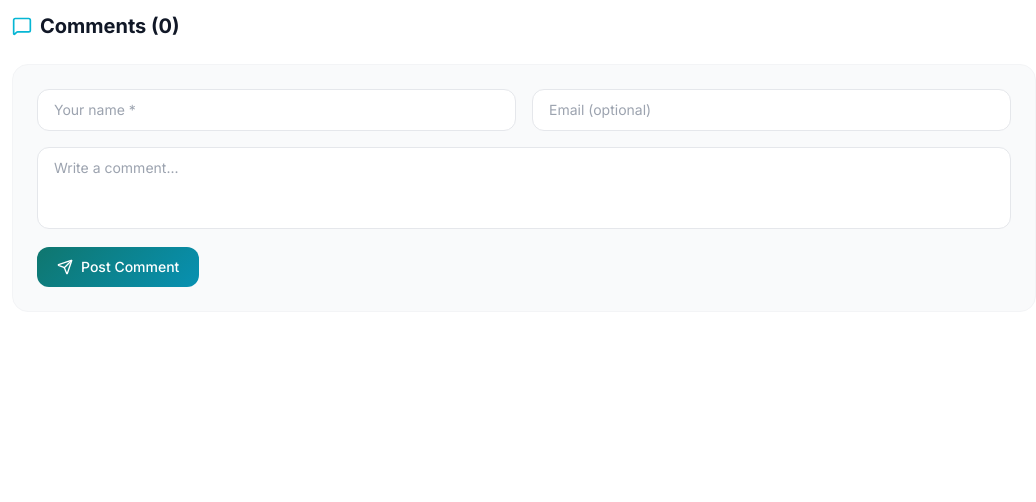
Comments component › disables submit while submitting and shows error on failure
Type "Alice" into the field with placeholder "Your name *" at (276, 110), box [37,89,516,131]
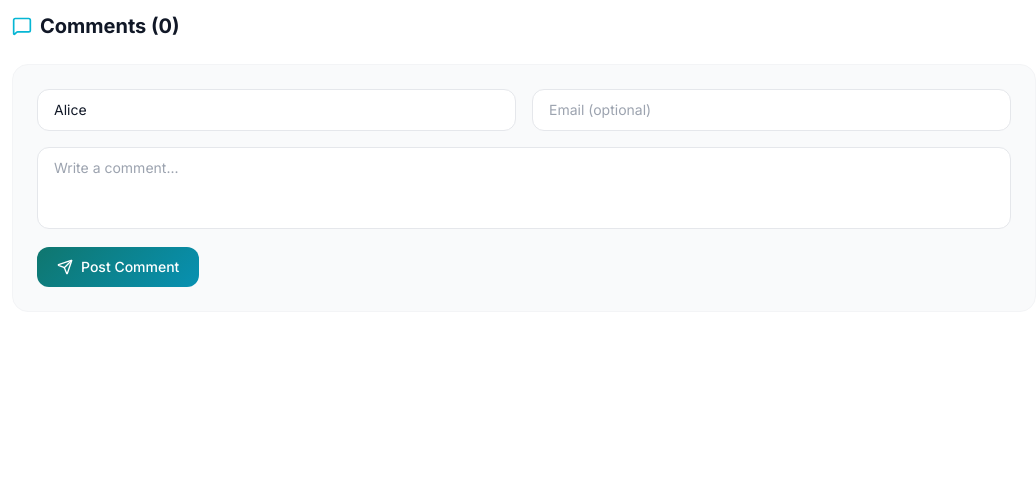
Type "Hello" into the text box with placeholder "Write a comment..." at (524, 188), box [37,147,1011,229]
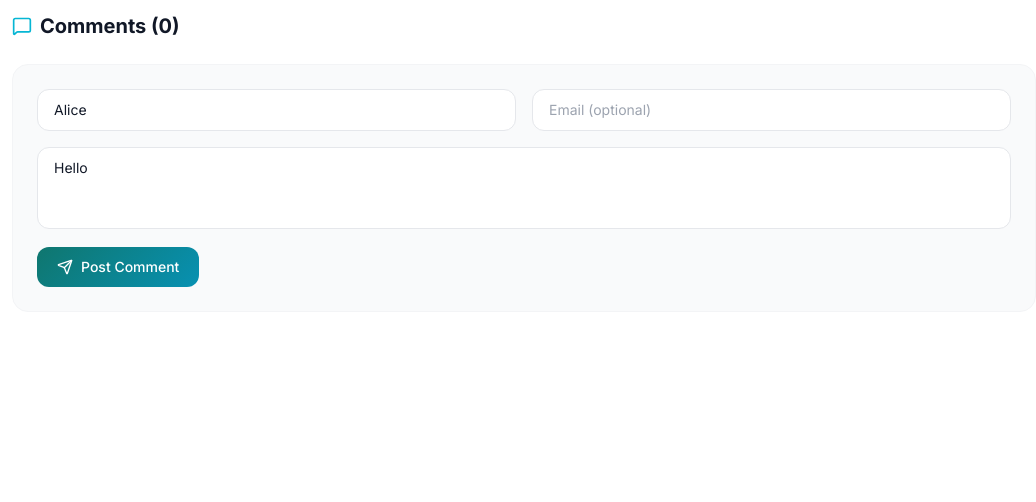
Click the button "Post Comment" at (118, 267), box [37,247,199,287]
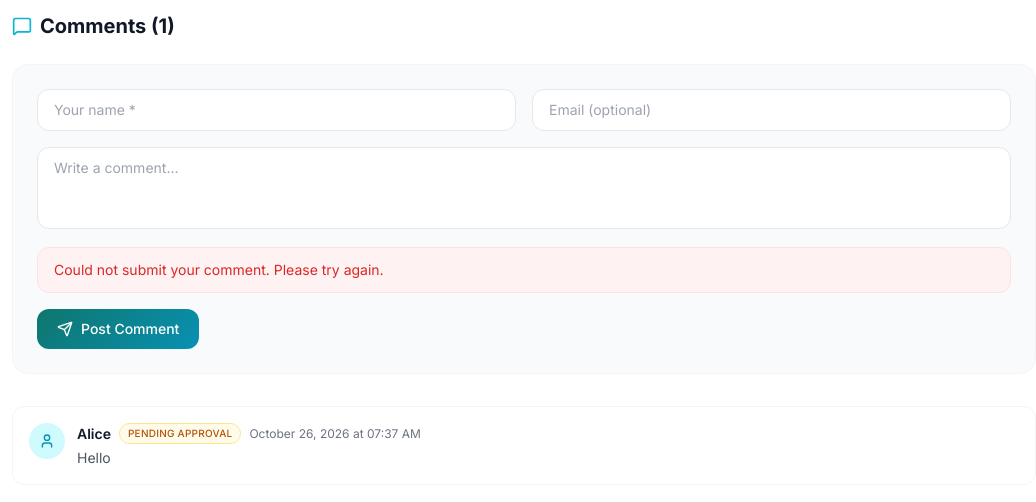
Now the text "Could not submit your comment. Please try again." is shown, box [37,247,1011,293]
